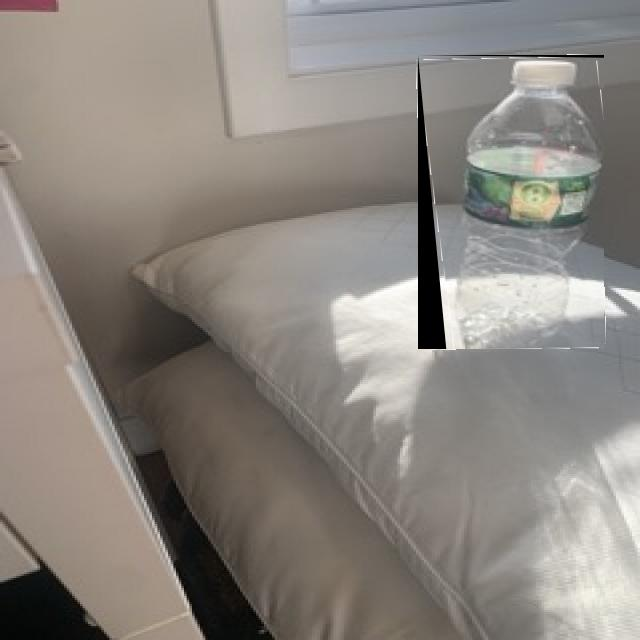water_bottle: (418, 55, 604, 349)
